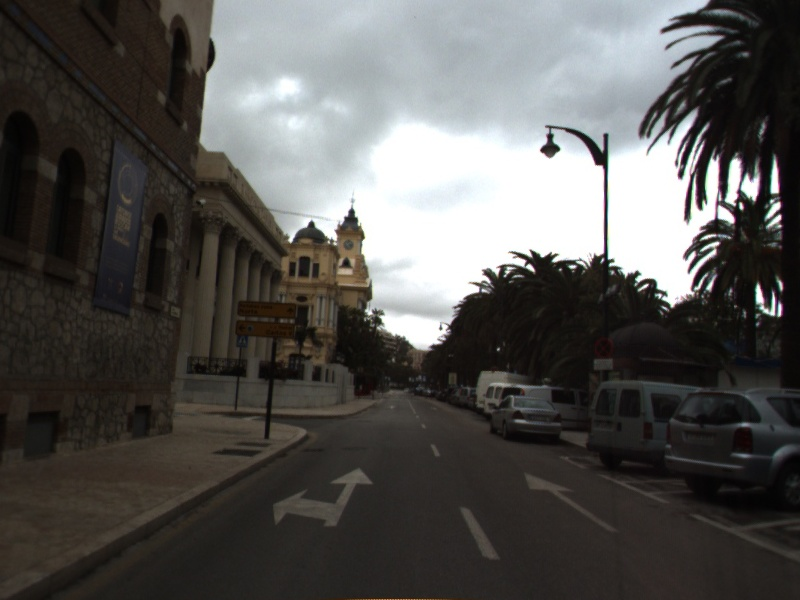STRAIGHT: (522, 470, 622, 534)
STRAIGHT_LEFT: (270, 465, 376, 528)
